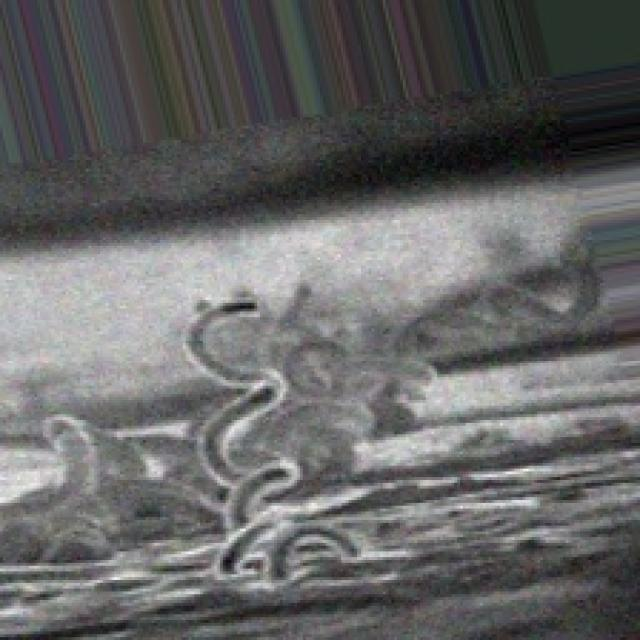Spiral_bacteria: (0, 228, 614, 637)
